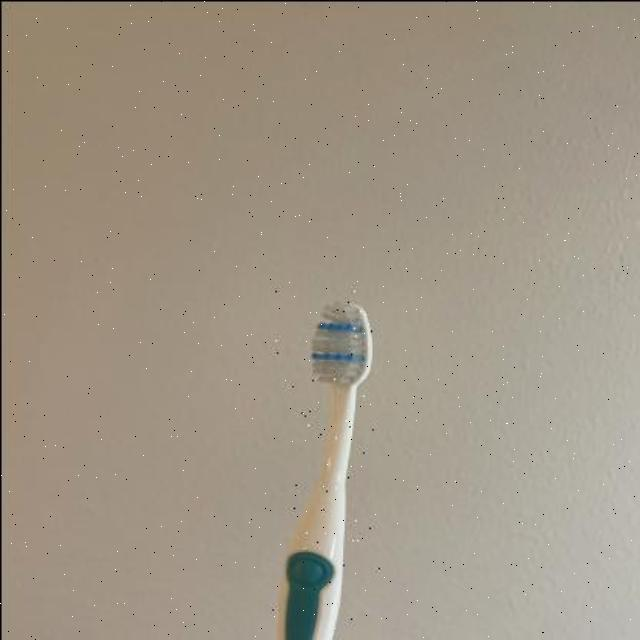toothbrush: (262, 288, 382, 640)
